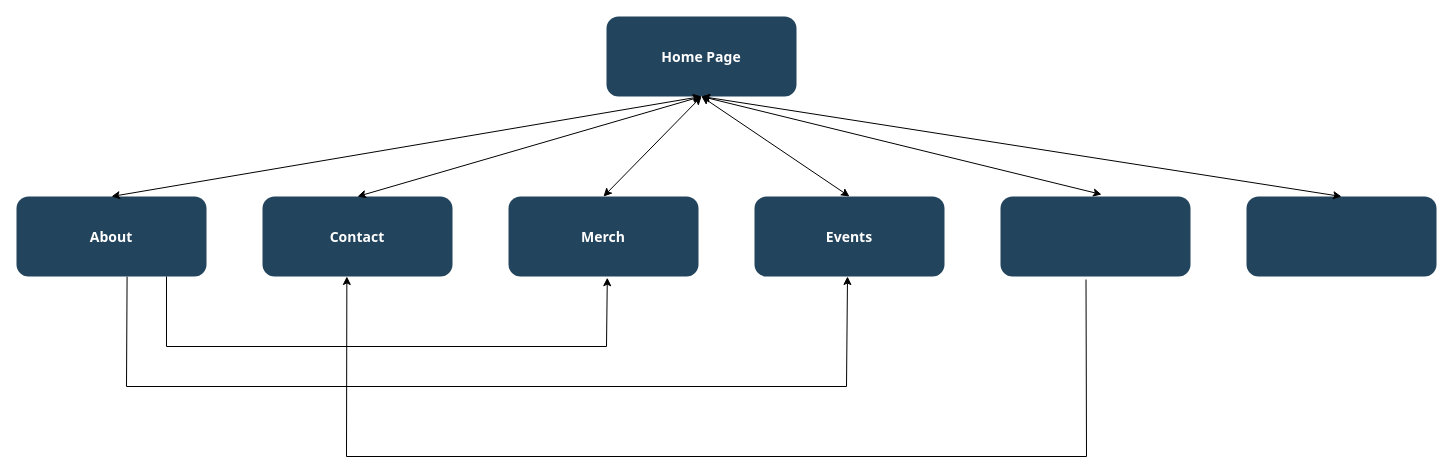
Some shapes in this 1453 by 473 pixel diagram are drawn without their labels. The centre of each missing label's shape, as x and y in pixels:
"All Adoptable Pets and Info" belongs at (x=1095, y=236).
"Get Involved" belongs at (x=1341, y=236).
